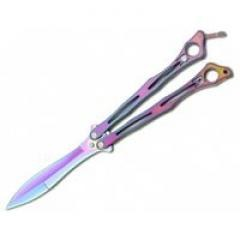knife: (3, 19, 235, 210)
